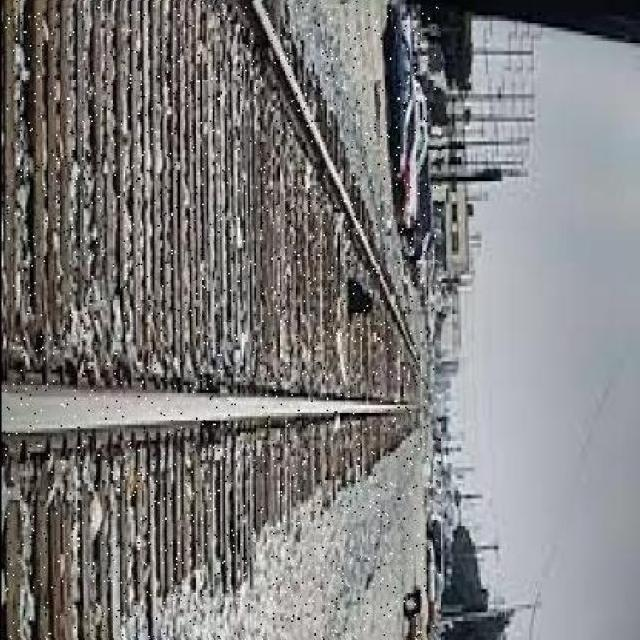rail: (5, 2, 439, 639)
